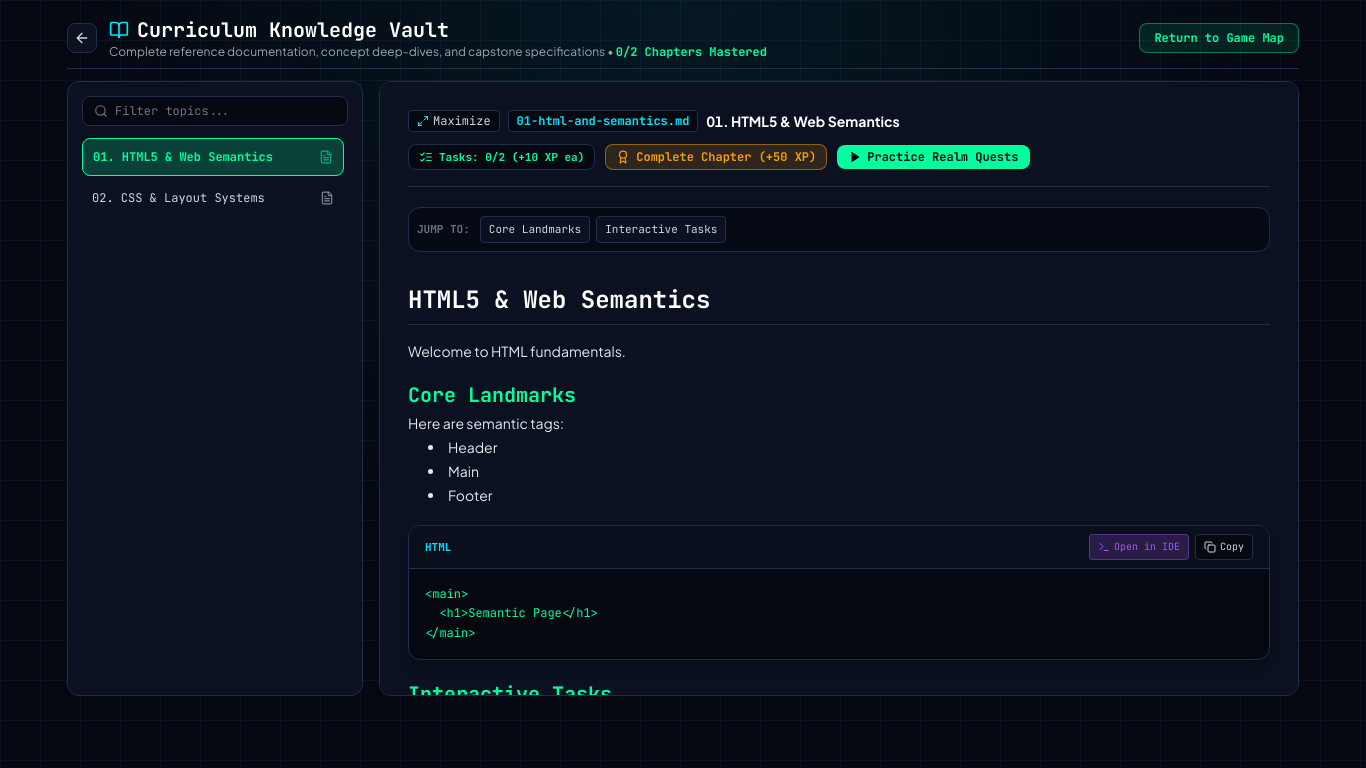
Test: CurriculumViewer Component › renders clear button when search is non-empty, clears search query, and restores document list on click
// Type search query
Type "CSS" into the field labelled "Filter topics..." at (215, 111), box [82,96,348,126]
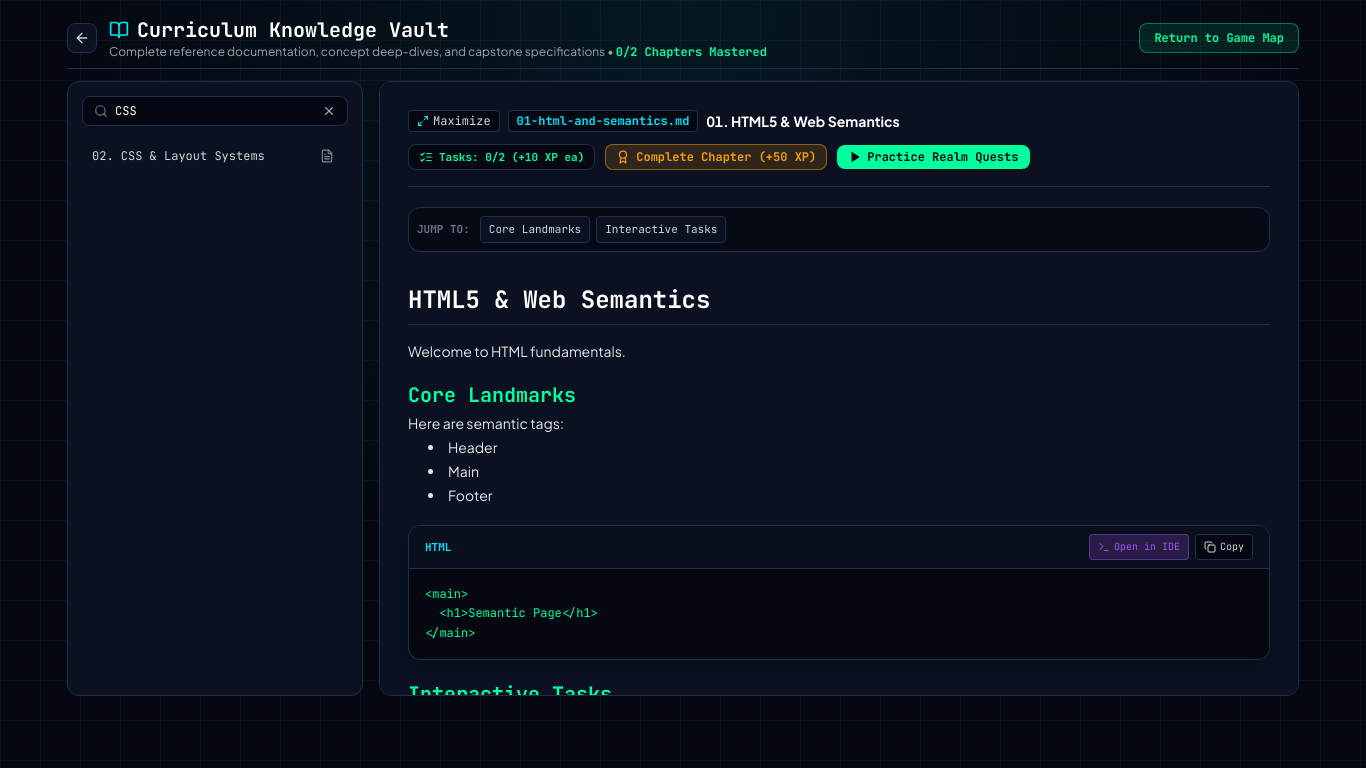
Expected: the button "02. CSS & Layout Systems" is shown, [82,138,344,174]
Now the button named "clear search" is shown
// Click clear button
Click the button named "clear search" at (329, 111), box [320,102,338,120]
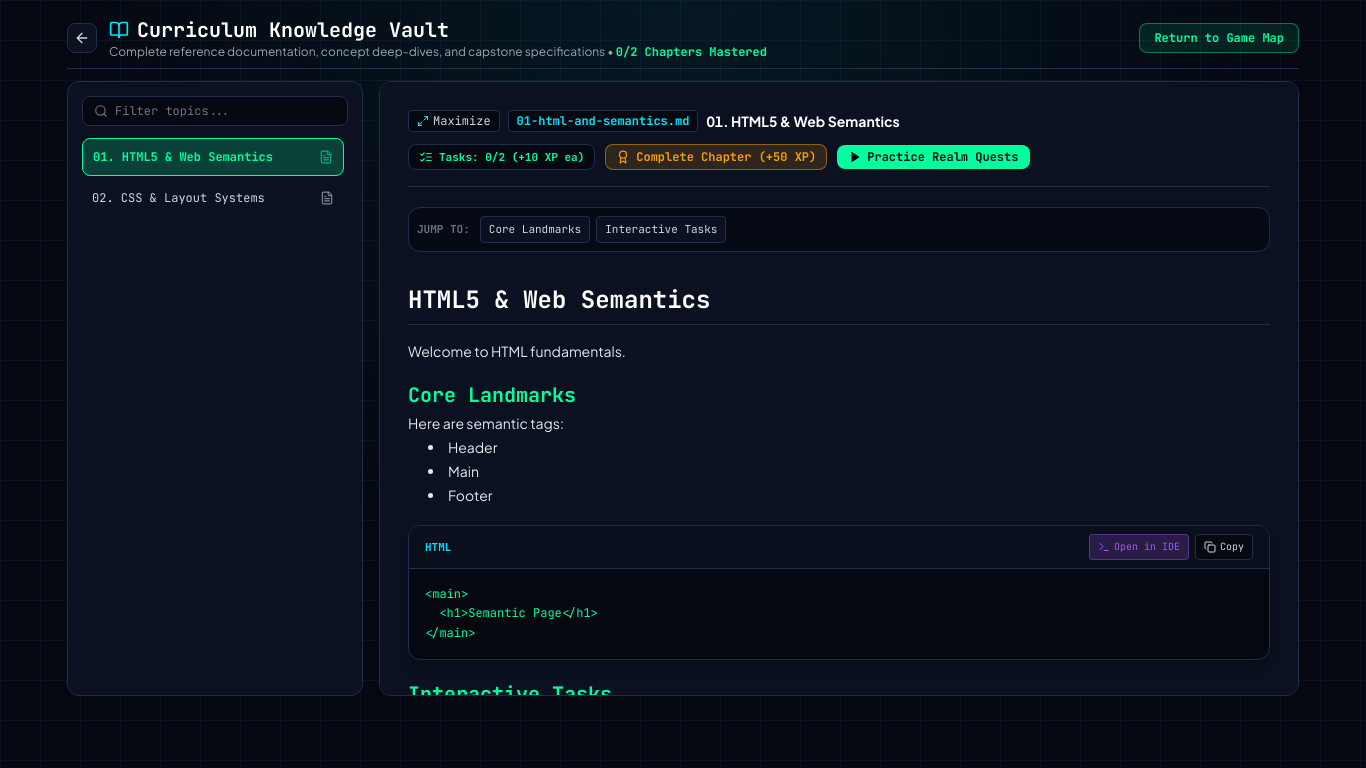
Expected: the button "02. CSS & Layout Systems" is shown, [82,180,344,216]
Now the field labelled "Filter topics..." is empty, box [82,96,348,126]
Now the button "01. HTML5 & Web Semantics" is shown, box [82,138,344,176]
